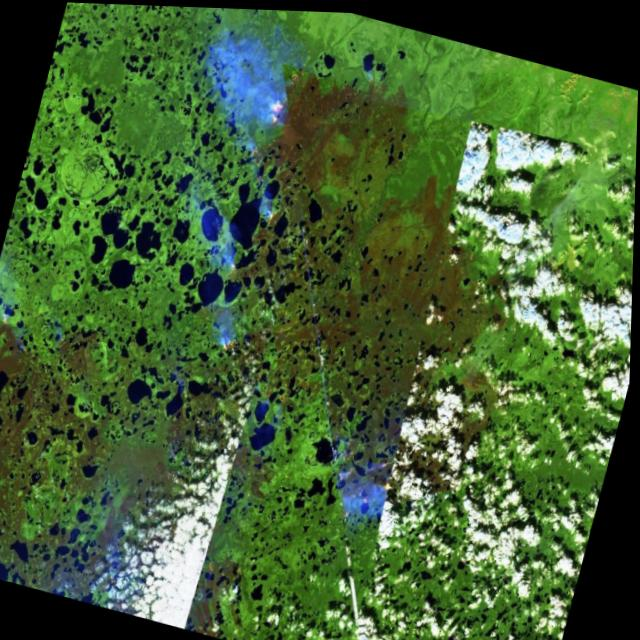fire: (184, 39, 335, 374), (311, 427, 414, 539), (0, 293, 25, 342)
